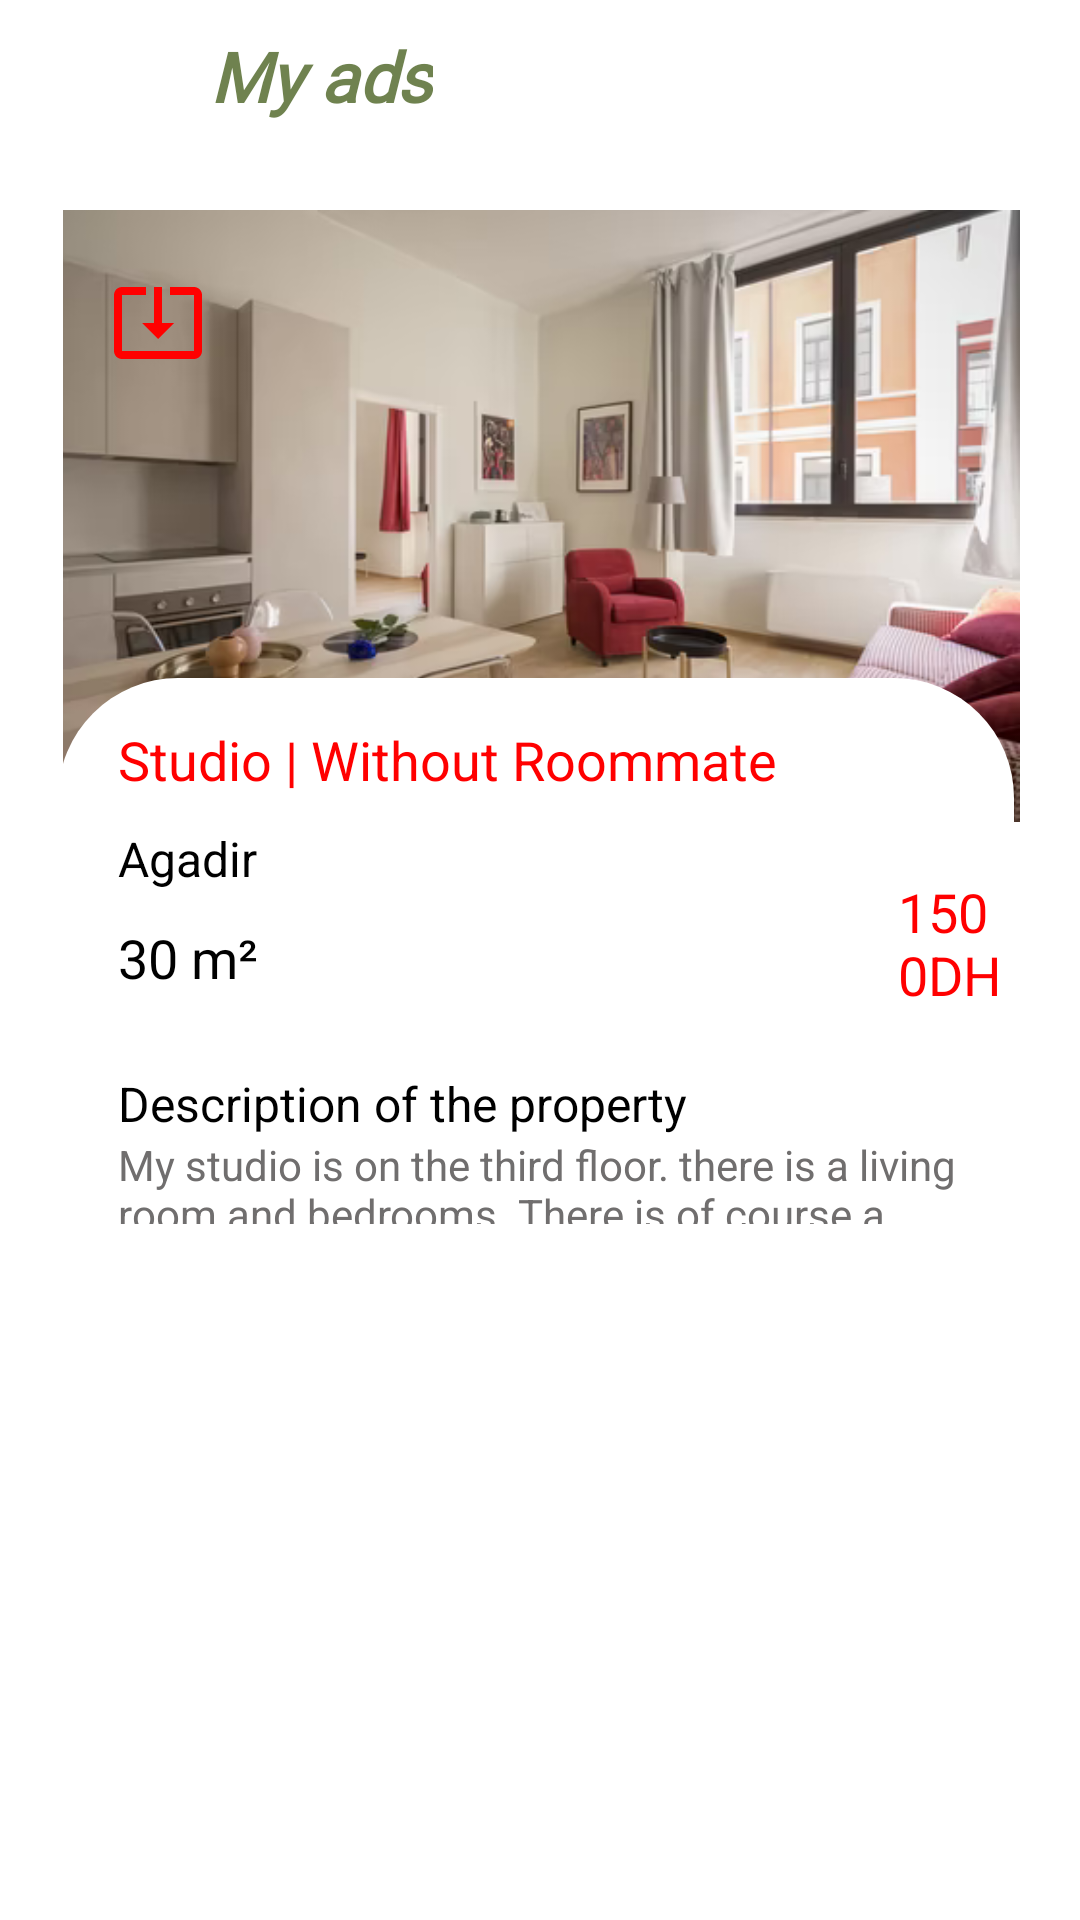

Icons on this 1080*1920 Android screen, each with the point to tap as point (x, y):
system update: point (158, 321)
